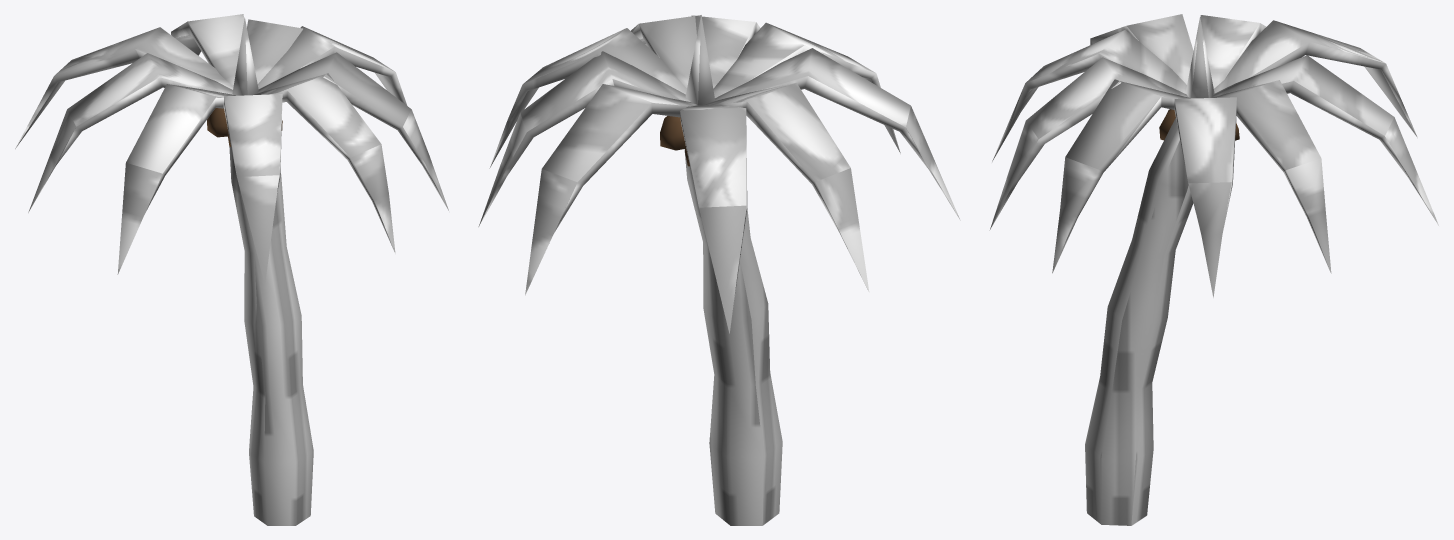
Rendered from tree_palm_2.obj.
3 renders of one model, left to right at view 1: azimuth 30°, elevation 25°; view 2: azimuth 150°, elevation 25°; view 3: azimuth 270°, elevation 25°, orthographic. The views are drawn at different scales.
Visible parts, largest first — view 1: source_component_000, source_component_009, source_component_010, source_component_011, source_component_008, source_component_012, source_component_007, source_component_004, source_component_006, source_component_005, source_component_013; view 2: source_component_000, source_component_007, source_component_006, source_component_008, source_component_009, source_component_005, source_component_004, source_component_010, source_component_012, source_component_011, source_component_013, source_component_001; view 3: source_component_000, source_component_004, source_component_012, source_component_005, source_component_006, source_component_011, source_component_007, source_component_010, source_component_009, source_component_008, source_component_013.
Part boxes in pixels (<box>): source_component_000: <box>229,146,313,525</box>; source_component_009: <box>117,84,235,274</box>; source_component_010: <box>223,94,282,284</box>; source_component_011: <box>252,73,395,253</box>; source_component_008: <box>28,53,233,212</box>; source_component_012: <box>255,52,448,210</box>; source_component_007: <box>15,27,233,148</box>; source_component_004: <box>257,26,407,105</box>; source_component_006: <box>171,14,244,86</box>; source_component_005: <box>247,19,302,83</box>; source_component_013: <box>232,17,258,95</box>; source_component_000: <box>684,149,782,525</box>; source_component_007: <box>680,104,747,333</box>; source_component_006: <box>525,84,697,295</box>; source_component_008: <box>704,83,869,292</box>; source_component_009: <box>715,48,960,220</box>; source_component_005: <box>478,51,690,226</box>; source_component_004: <box>489,28,686,168</box>; source_component_010: <box>713,22,900,153</box>; source_component_012: <box>631,15,701,87</box>; source_component_011: <box>691,15,760,88</box>; source_component_013: <box>685,15,715,104</box>; source_component_001: <box>660,116,685,150</box>; source_component_000: <box>1085,118,1193,525</box>; source_component_004: <box>1174,97,1236,297</box>; source_component_012: <box>1052,79,1189,273</box>; source_component_005: <box>1211,80,1331,273</box>; source_component_006: <box>1212,55,1438,225</box>; source_component_011: <box>989,57,1188,230</box>; source_component_007: <box>1214,20,1417,137</box>; source_component_010: <box>992,29,1186,161</box>; source_component_009: <box>1090,14,1193,84</box>; source_component_008: <box>1200,15,1266,88</box>; source_component_013: <box>1186,17,1214,98</box>.
Bounding box in the file's own units: 0.8594 × 1.06 × 0.8666.
